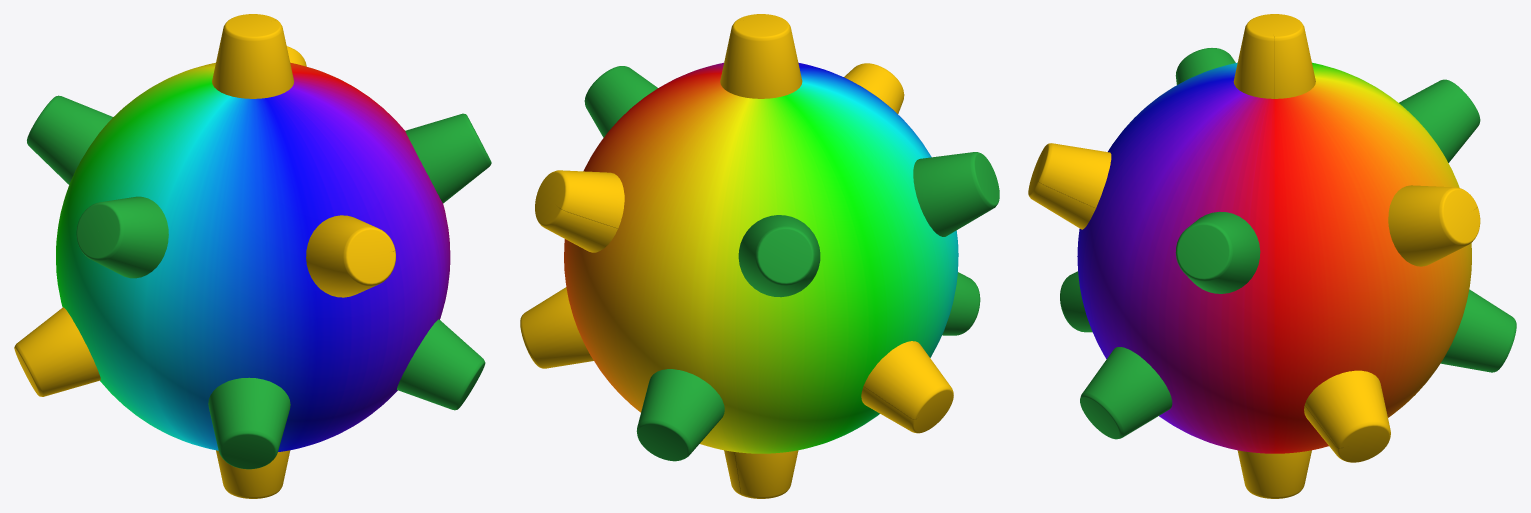
Rendered from katamari.fbx.
3 renders of one model, left to right at view 1: azimuth 30°, elevation 25°; view 2: azimuth 150°, elevation 25°; view 3: azimuth 270°, elevation 25°, orthographic.
Visible parts, largest first — view 1: Sphere, Cylinder_2, Cylinder_2_7, Cylinder_2_12, Cylinder_2_8, Cylinder_2_3, Cylinder_2_6, Cylinder_2_11, Cylinder_2_9, Cylinder_2_2; view 2: Sphere, Cylinder_2_5, Cylinder_2_10, Cylinder_2_6, Cylinder_2_8, Cylinder_2_7, Cylinder_2_9, Cylinder_2_4, Cylinder_2_2, Cylinder_2_11, Cylinder_2_12, Cylinder_2; view 3: Sphere, Cylinder_2_10, Cylinder_2_4, Cylinder_2_8, Cylinder_2_3, Cylinder_2_11, Cylinder_2_12, Cylinder_2_5, Cylinder_2_9, Cylinder_2_2, Cylinder_2_7, Cylinder_2.
Part boxes in pixels (<box>): Sphere: <box>56,62,450,451</box>; Cylinder_2: <box>208,377,290,469</box>; Cylinder_2_7: <box>76,196,168,278</box>; Cylinder_2_12: <box>306,215,395,297</box>; Cylinder_2_8: <box>212,14,294,98</box>; Cylinder_2_3: <box>397,319,485,410</box>; Cylinder_2_6: <box>14,307,100,396</box>; Cylinder_2_11: <box>405,113,491,203</box>; Cylinder_2_9: <box>27,95,112,184</box>; Cylinder_2_2: <box>216,450,290,498</box>; Sphere: <box>564,62,958,453</box>; Cylinder_2_5: <box>636,369,724,461</box>; Cylinder_2_10: <box>535,170,624,252</box>; Cylinder_2_6: <box>861,341,953,433</box>; Cylinder_2_8: <box>720,14,802,98</box>; Cylinder_2_7: <box>913,152,999,236</box>; Cylinder_2_9: <box>738,215,820,297</box>; Cylinder_2_4: <box>520,287,593,368</box>; Cylinder_2_2: <box>724,450,798,498</box>; Cylinder_2_11: <box>584,66,657,137</box>; Cylinder_2_12: <box>844,63,904,113</box>; Cylinder_2: <box>942,272,980,335</box>; Sphere: <box>1077,62,1471,453</box>; Cylinder_2_10: <box>1388,185,1480,266</box>; Cylinder_2_4: <box>1304,370,1390,462</box>; Cylinder_2_8: <box>1233,14,1315,98</box>; Cylinder_2_3: <box>1080,347,1172,439</box>; Cylinder_2_11: <box>1175,211,1260,293</box>; Cylinder_2_12: <box>1028,143,1111,229</box>; Cylinder_2_5: <box>1440,289,1516,372</box>; Cylinder_2_9: <box>1399,79,1480,162</box>; Cylinder_2_2: <box>1237,450,1311,498</box>; Cylinder_2_7: <box>1175,48,1235,84</box>; Cylinder_2: <box>1060,271,1092,332</box>.
Bounding box in the file's own units: 73.96 × 79.36 × 76.
